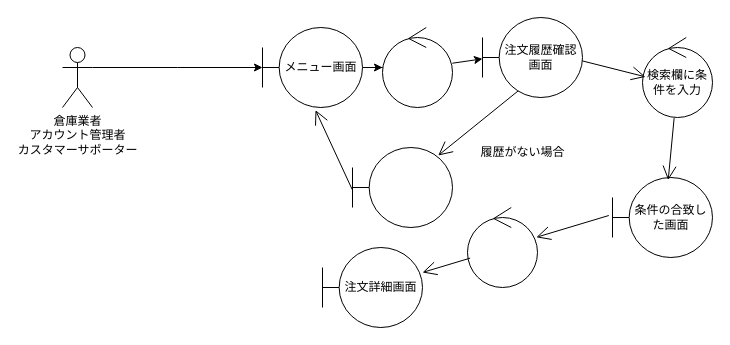
The diagram is 730 pixels wide and 345 high, and some of its shapes have lost their labels. The shapes that lost their labels are listed below. From the top down, each one's box as (x1, y1, x2, y2) in pixels, then its label:
(382, 26, 452, 108): 注文履歴ボタンを選択
(352, 146, 452, 228): 履歴なしと表示された画面
(466, 206, 538, 288): 注文履歴を選択する
